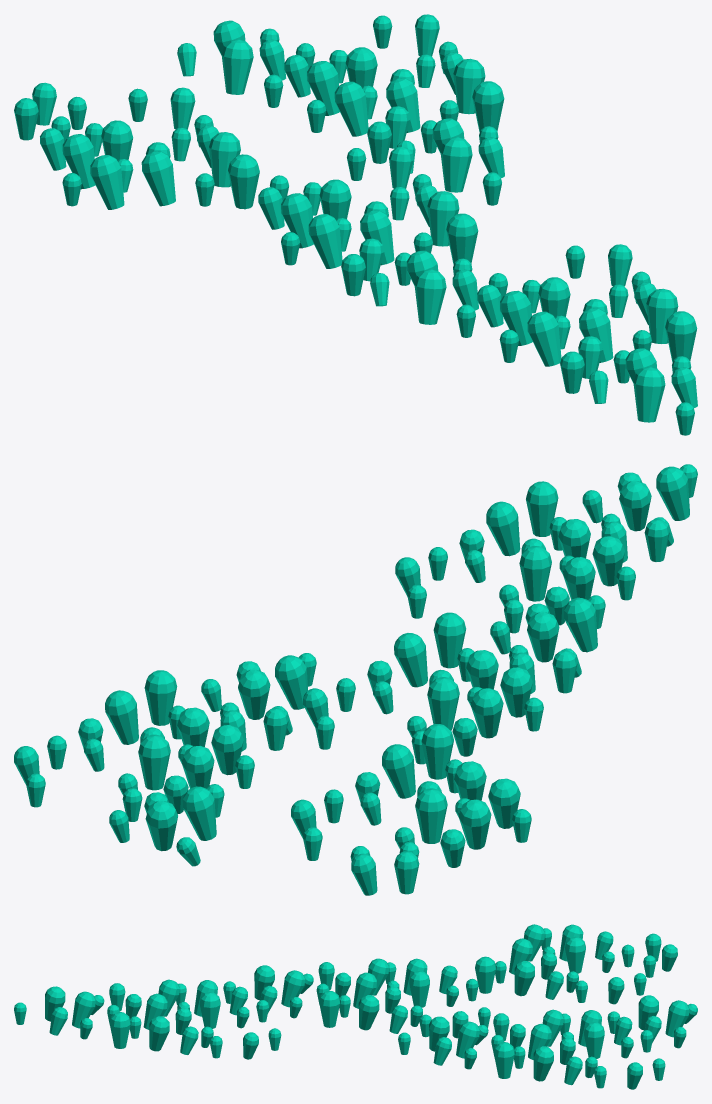
Rendered from Floor_bean_2.fbx.
3 views of the same model, one above another, from view 1: azimuth 30°, elevation 25°; view 2: azimuth 150°, elevation 25°; view 3: azimuth 270°, elevation 25° (orthographic). The views are drawn at different scales.
Visible parts, largest first — view 1: Floor_Beans_2; view 2: Floor_Beans_2; view 3: Floor_Beans_2.
Part boxes in pixels (left/top/right/bottom): Floor_Beans_2: left=14, top=14, right=697, bottom=435; Floor_Beans_2: left=14, top=464, right=697, bottom=895; Floor_Beans_2: left=14, top=924, right=697, bottom=1089.
Bounding box in the file's own units: 28.63 × 3.25 × 56.91.
